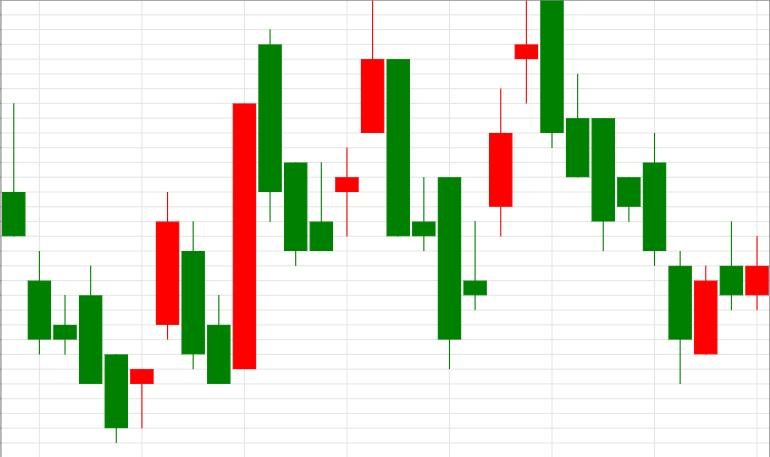bearish_engulfing_fall: (438, 0, 564, 369)
